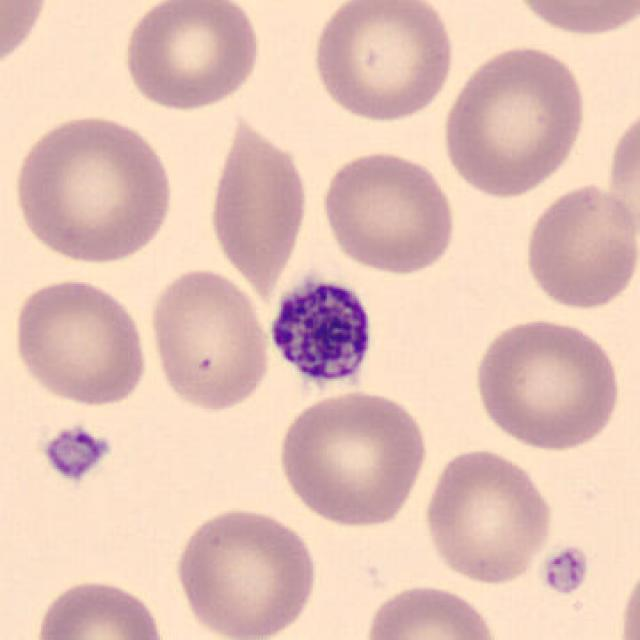Platelets: (261, 272, 379, 396), (39, 421, 114, 485), (539, 543, 592, 596)
RBC: (9, 110, 178, 266), (438, 41, 590, 201), (274, 386, 432, 529), (469, 312, 624, 453), (170, 502, 322, 640), (203, 111, 313, 293), (419, 444, 556, 587), (9, 273, 153, 409), (146, 264, 274, 414), (307, 0, 457, 125), (316, 146, 458, 277), (119, 0, 263, 113), (519, 178, 638, 314), (29, 575, 172, 640), (361, 580, 503, 640), (602, 97, 640, 255), (505, 0, 638, 39), (0, 0, 52, 81), (615, 555, 640, 640)
